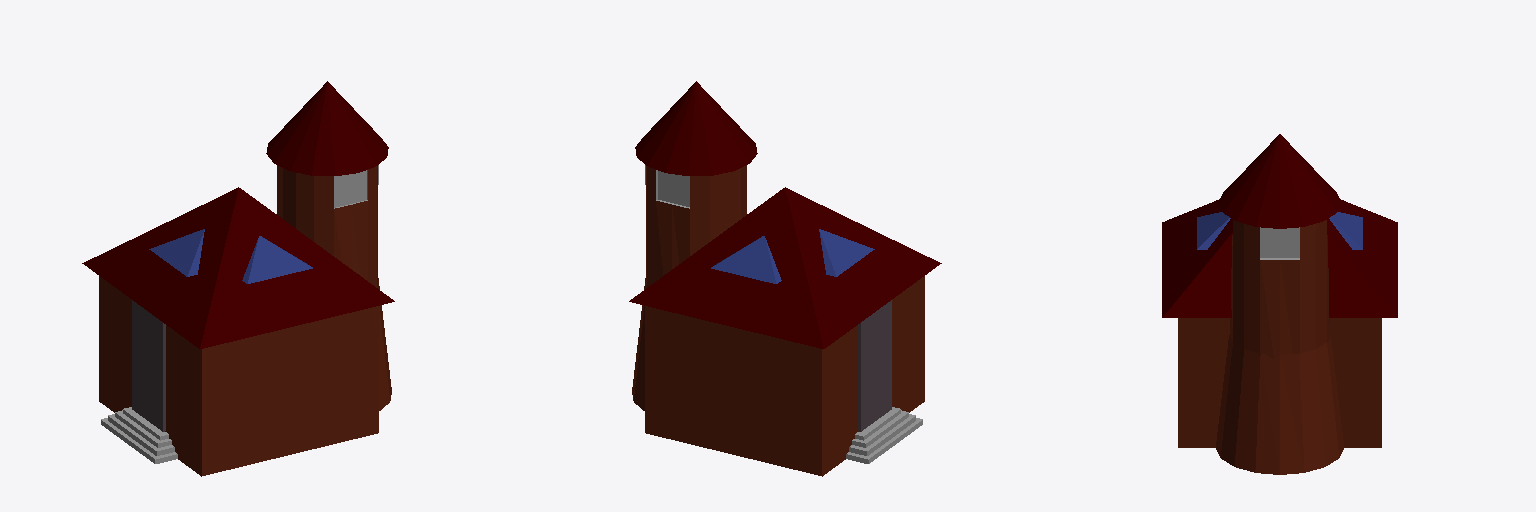
The model's file is smallchurch-full.obj.
3 views of the same model, side by side, from view 1: azimuth 30°, elevation 25°; view 2: azimuth 150°, elevation 25°; view 3: azimuth 270°, elevation 25° (orthographic).
Parts seen in each view (by area): view 1: house_wall, house_roof, tower_roof, tower_tubus_3, door, tower_tubus_2, vykyr2, vykyr, window1_1, base_tower, stair4, stair3; view 2: house_wall, house_roof, tower_roof, tower_tubus_3, door, tower_tubus_2, vykyr3, vykyr, window3_1, base_tower, stair4, stair3; view 3: base_tower, house_roof, house_wall, tower_roof, tower_tubus_3, tower_tubus_2, window2_1, vykyr2, vykyr3.
Part boxes in pixels (x1,y1,x2,y2): house_wall: (99,276,378,476); house_roof: (82,187,394,348); tower_roof: (266,81,388,175); tower_tubus_3: (277,165,377,286); door: (132,300,165,431); tower_tubus_2: (334,201,367,280); vykyr2: (242,236,312,283); vykyr: (149,229,204,276); window1_1: (334,170,366,207); base_tower: (376,278,391,410); stair4: (101,418,177,463); stair3: (108,414,174,455); house_wall: (645,276,924,476); house_roof: (629,187,941,348); tower_roof: (635,81,757,175); tower_tubus_3: (646,165,746,286); door: (858,300,891,431); tower_tubus_2: (656,201,689,280); vykyr3: (711,236,781,283); vykyr: (819,229,874,276); window3_1: (658,171,689,206); base_tower: (632,278,647,410); stair4: (846,418,922,463); stair3: (849,414,915,455); base_tower: (1216,335,1343,474); house_roof: (1162,199,1397,317); house_wall: (1178,318,1381,447); tower_roof: (1218,134,1341,228); tower_tubus_3: (1233,220,1326,353); tower_tubus_2: (1230,235,1329,358); window2_1: (1260,227,1299,257); vykyr2: (1197,212,1230,249); vykyr3: (1329,212,1362,249).
Size of the model in its own units: 9.22 by 10.83 by 7.34.